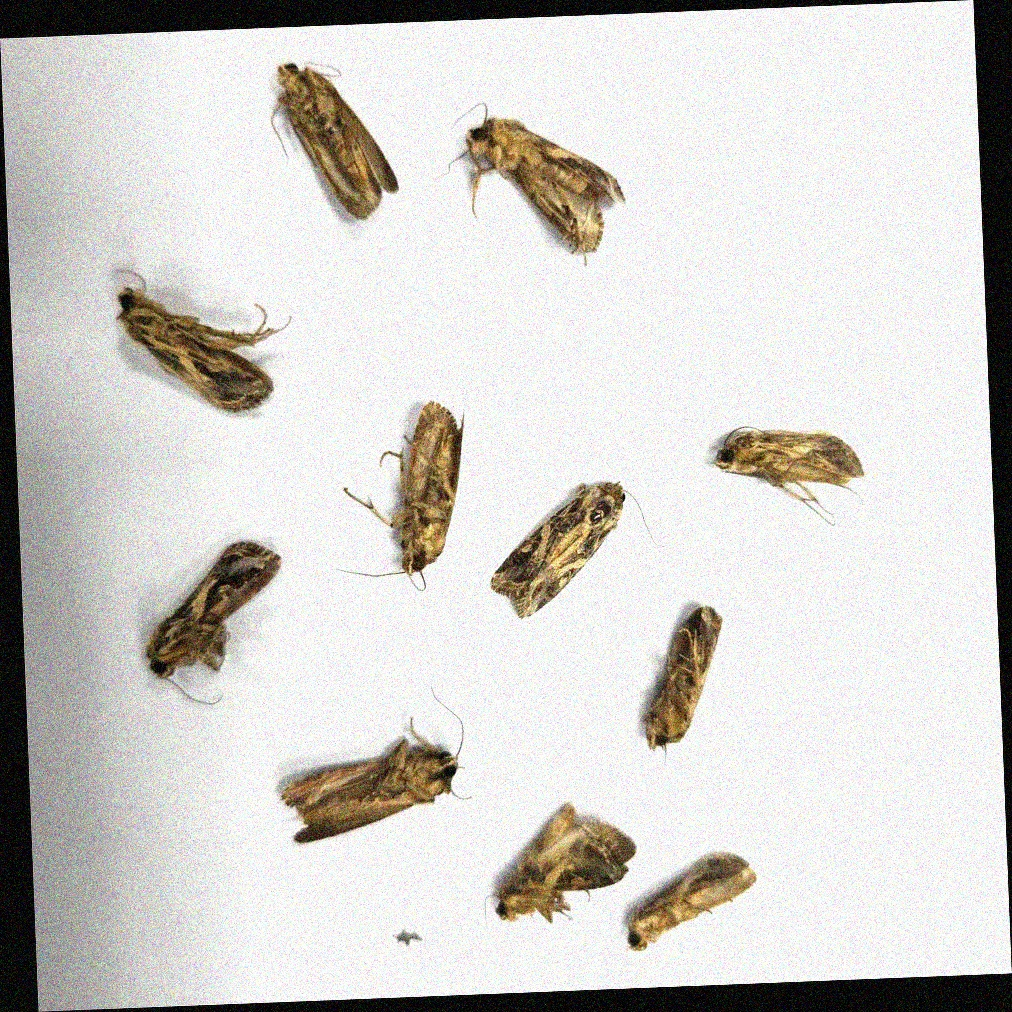Spodoptera litura: (433, 99, 627, 270), (278, 687, 471, 841), (115, 265, 294, 416), (331, 401, 469, 593), (482, 801, 638, 956), (489, 481, 665, 618), (145, 541, 283, 704), (270, 58, 399, 223), (624, 851, 759, 985), (618, 606, 726, 771), (715, 423, 865, 528)
